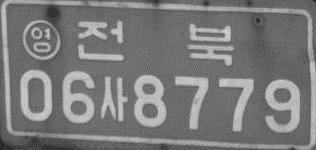0: (18, 68, 53, 121)
6: (61, 70, 95, 125)
7: (217, 76, 254, 131), (173, 74, 209, 129)
8: (132, 74, 168, 129)
9: (264, 78, 301, 132)
사: (100, 76, 128, 123)
영: (22, 19, 61, 62)
전북_D: (77, 19, 233, 66)
